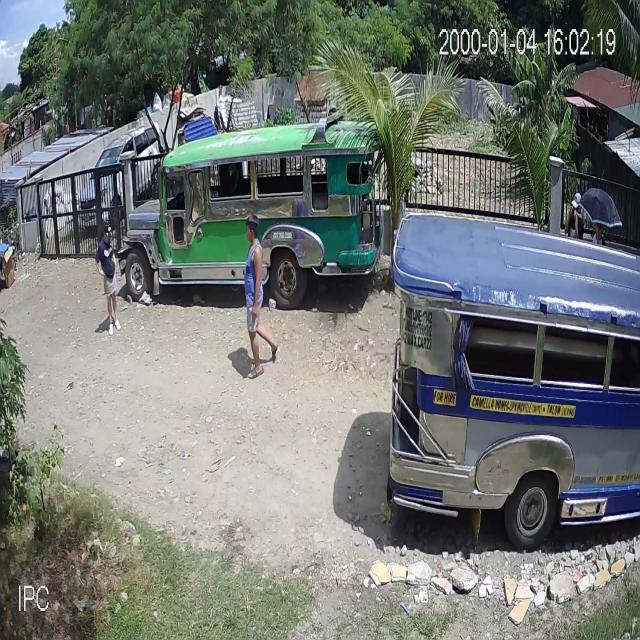standing: (96, 221, 123, 339), (566, 192, 587, 246), (590, 218, 608, 261)
walking: (247, 209, 283, 381)
